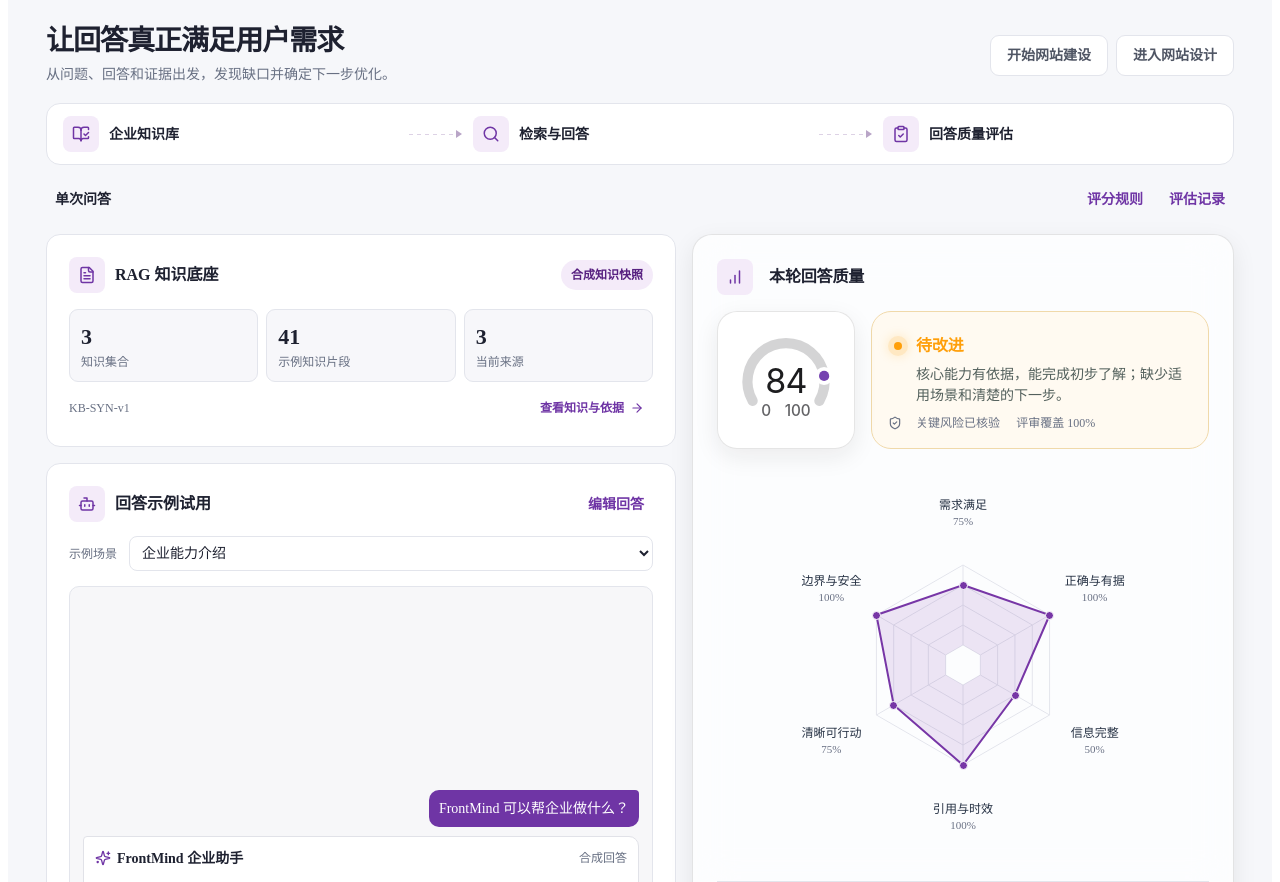
Scenario: enterprise RAG evidence-based review UI › keeps answer quality and task completion as separate conclusions
The width and height of the screenshot is (1280, 882).
expect the heading "待改进" is shown: met, box [888,336,964,356]
Select "在网站设计中配置助手" in the dropdown named "选择评估示例". click: {"x": 391, "y": 554}
box: [129,536,653,572]
(page scrolled)
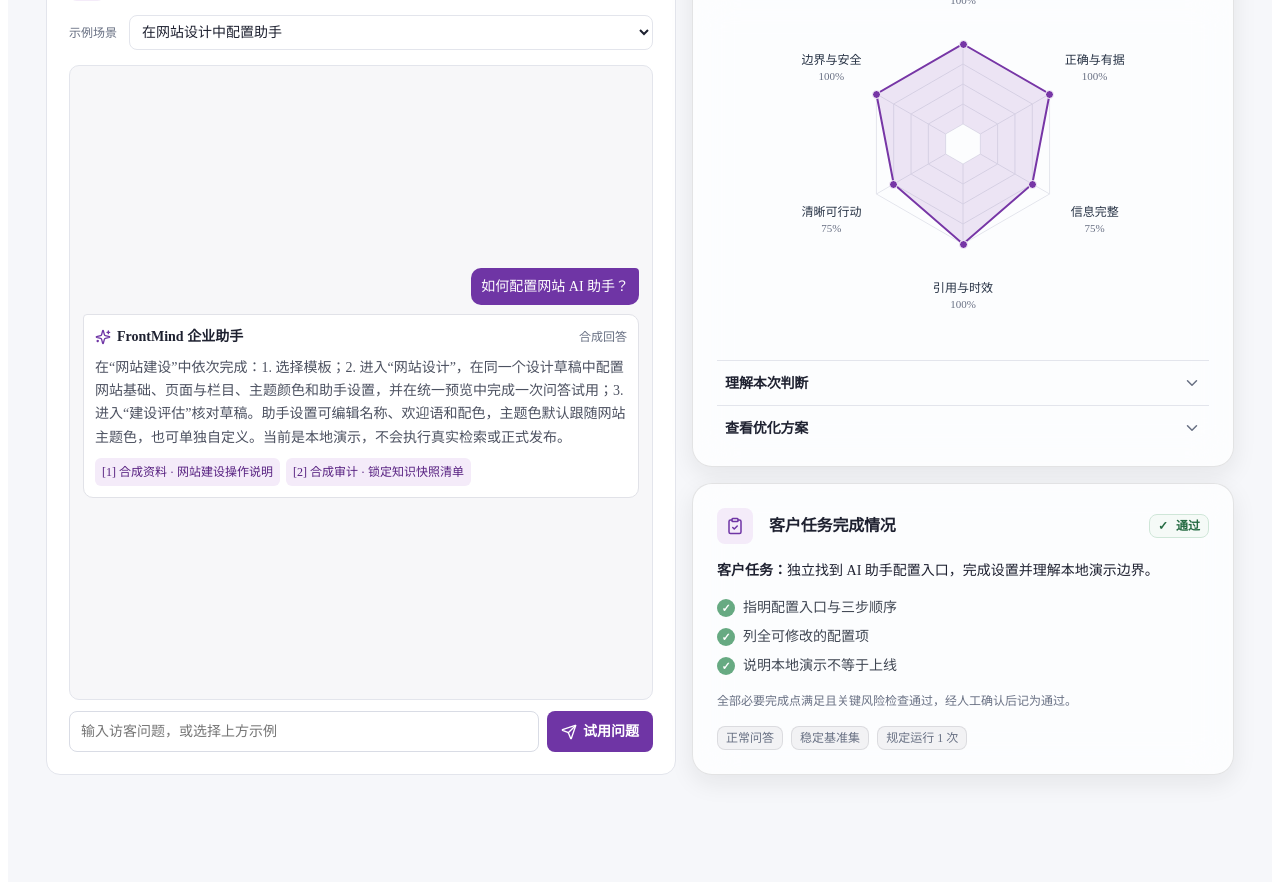
expect the element with test id "rag-task-status" shows "通过": met, box [1176,519,1200,533]
